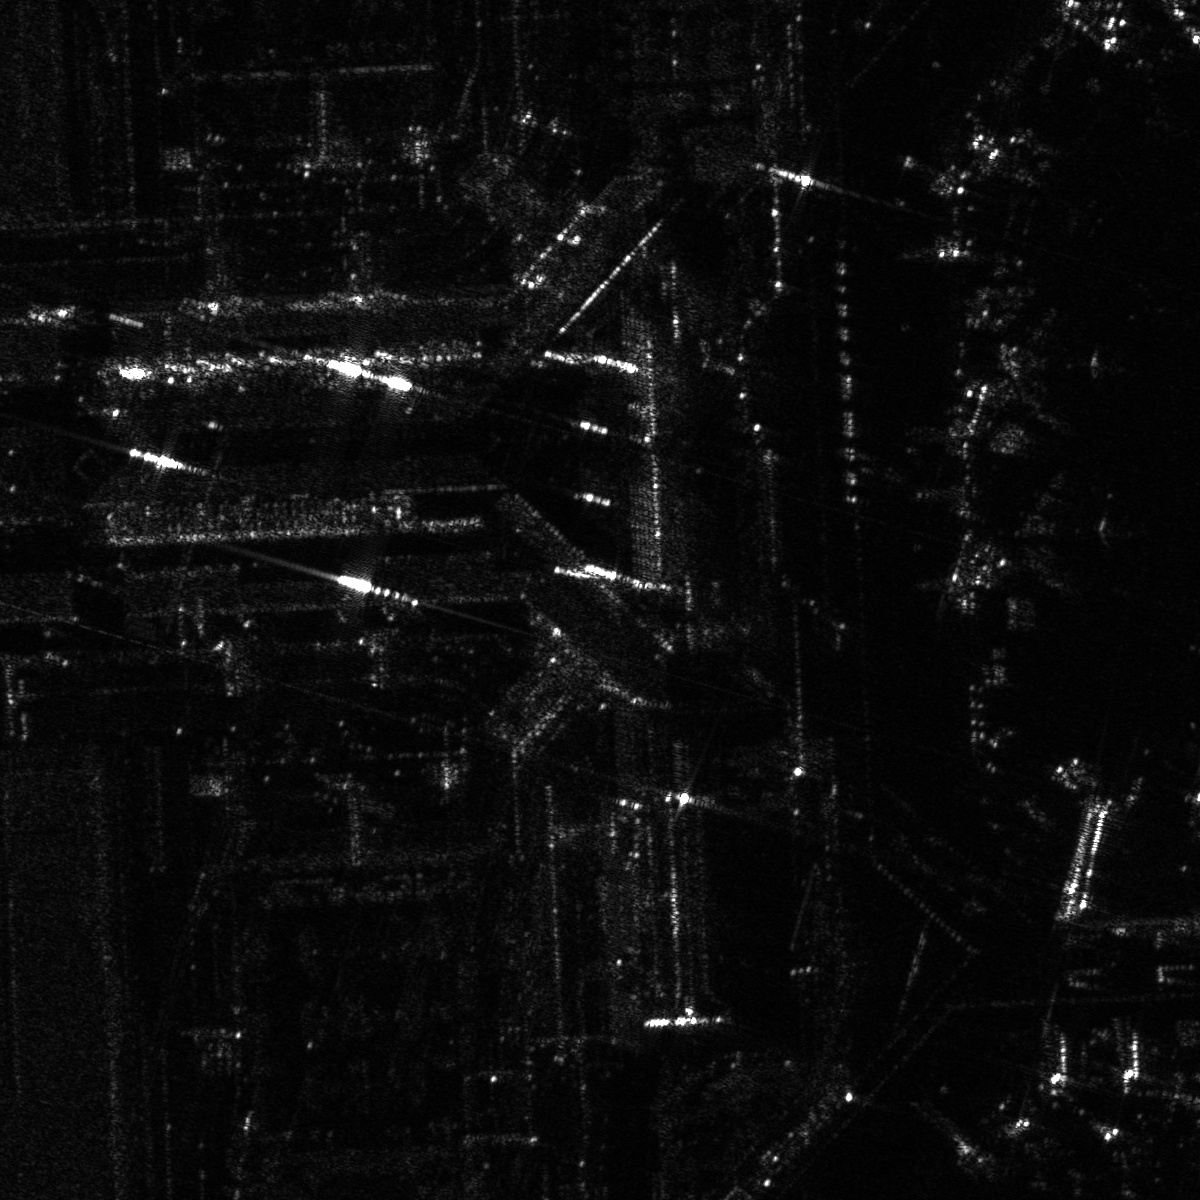A320/321: (954, 462, 1154, 611), (943, 299, 1118, 438)
A330: (984, 129, 1116, 237)
Boeing737: (1084, 1137, 1165, 1199)
other: (1121, 51, 1199, 135)
